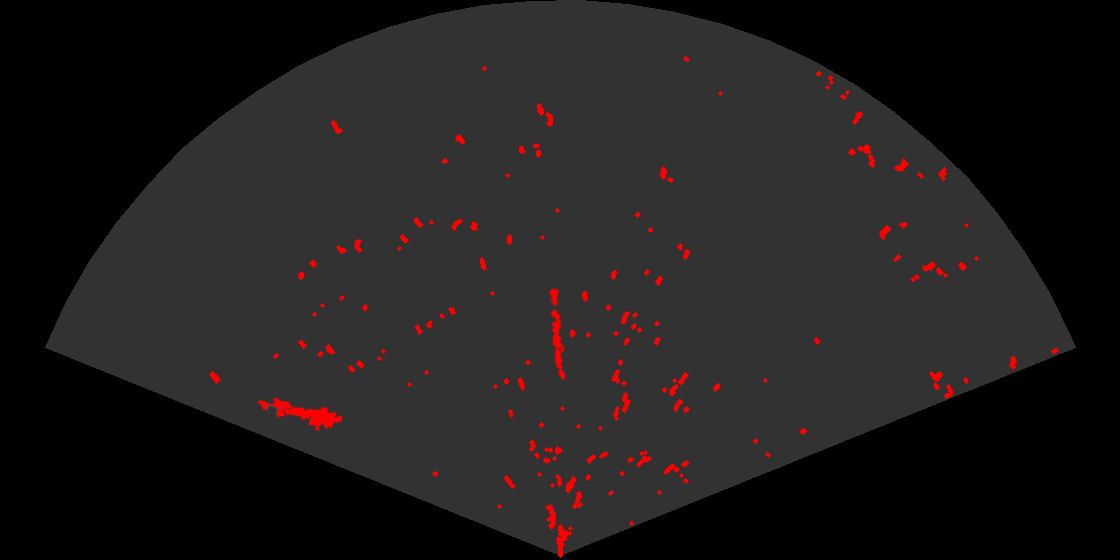AUV: (256, 396, 296, 419)
chain: (547, 286, 567, 381)
frogman: (282, 405, 342, 433)
